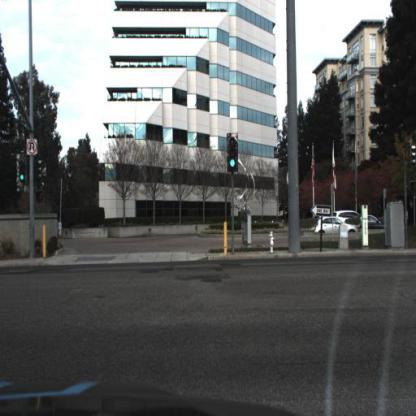car: (318, 218, 359, 237), (332, 210, 360, 234), (362, 211, 384, 234), (368, 214, 384, 234)
trafficLight-Green: (224, 136, 239, 185), (15, 165, 31, 195), (230, 133, 238, 173), (19, 166, 27, 185)
